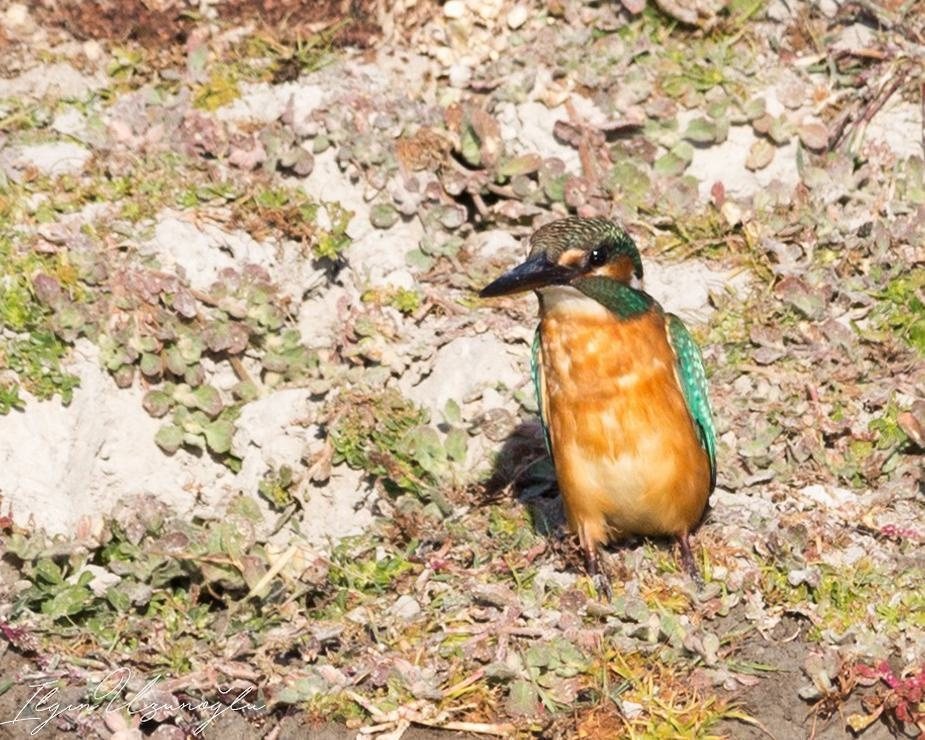kingfisher: (483, 209, 733, 571)
